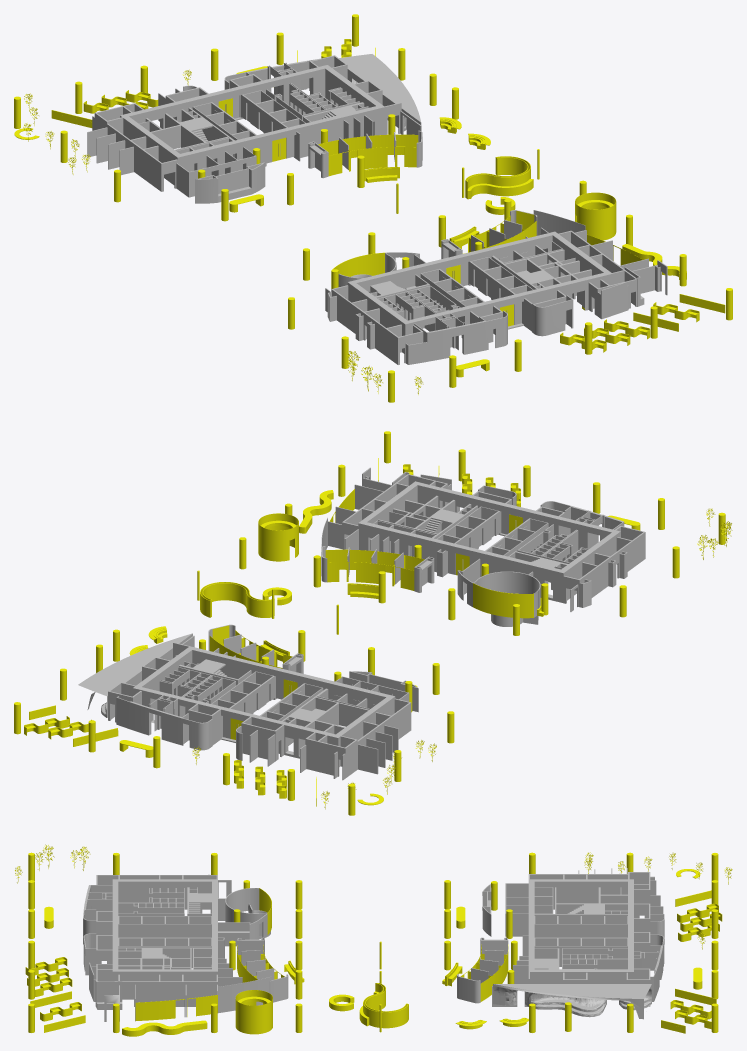
Rendered from sm_hana_building_10f_in.glb.
3 renders of one model, top to bottom at view 1: azimuth 30°, elevation 25°; view 2: azimuth 150°, elevation 25°; view 3: azimuth 270°, elevation 25°, orthographic. The views are drawn at different scales.
Parts seen in each view (by area): view 1: sm_hana_building_10f_in; view 2: sm_hana_building_10f_in; view 3: sm_hana_building_10f_in.
Part boxes in pixels (x1,y1,x2,y2): sm_hana_building_10f_in: (14,14,732,402); sm_hana_building_10f_in: (14,431,732,815); sm_hana_building_10f_in: (15,844,732,1036).
Bounding box in the file's own units: 52.55 × 5.87 × 96.79.
Materials: 7 (6 with a texture image).
